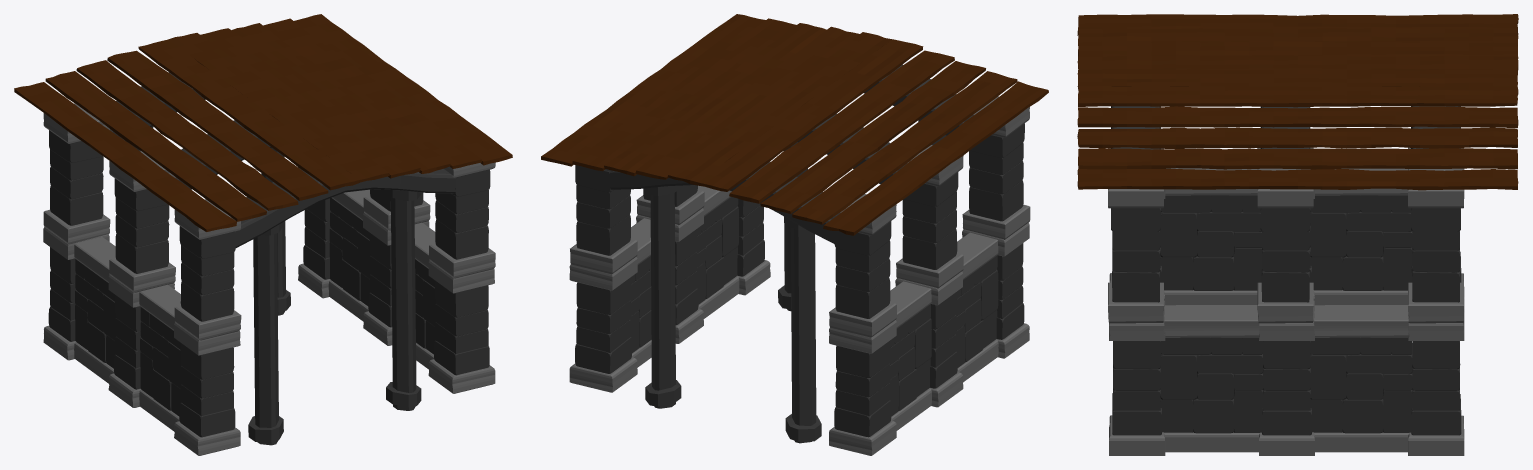
The model's file is WoodenHut_01.fbx.
3 renders of one model, left to right at view 1: azimuth 30°, elevation 25°; view 2: azimuth 150°, elevation 25°; view 3: azimuth 270°, elevation 25°, orthographic. The views are drawn at different scales.
Visible parts, largest first — view 1: WoodenHut_01; view 2: WoodenHut_01; view 3: WoodenHut_01.
Boxes of the visible parts, x1=… form: WoodenHut_01: x1=14, y1=14, x2=512, y2=455; WoodenHut_01: x1=541, y1=14, x2=1048, y2=455; WoodenHut_01: x1=1077, y1=14, x2=1518, y2=455.
Bounding box in the file's own units: 1127 × 918 × 1222.
